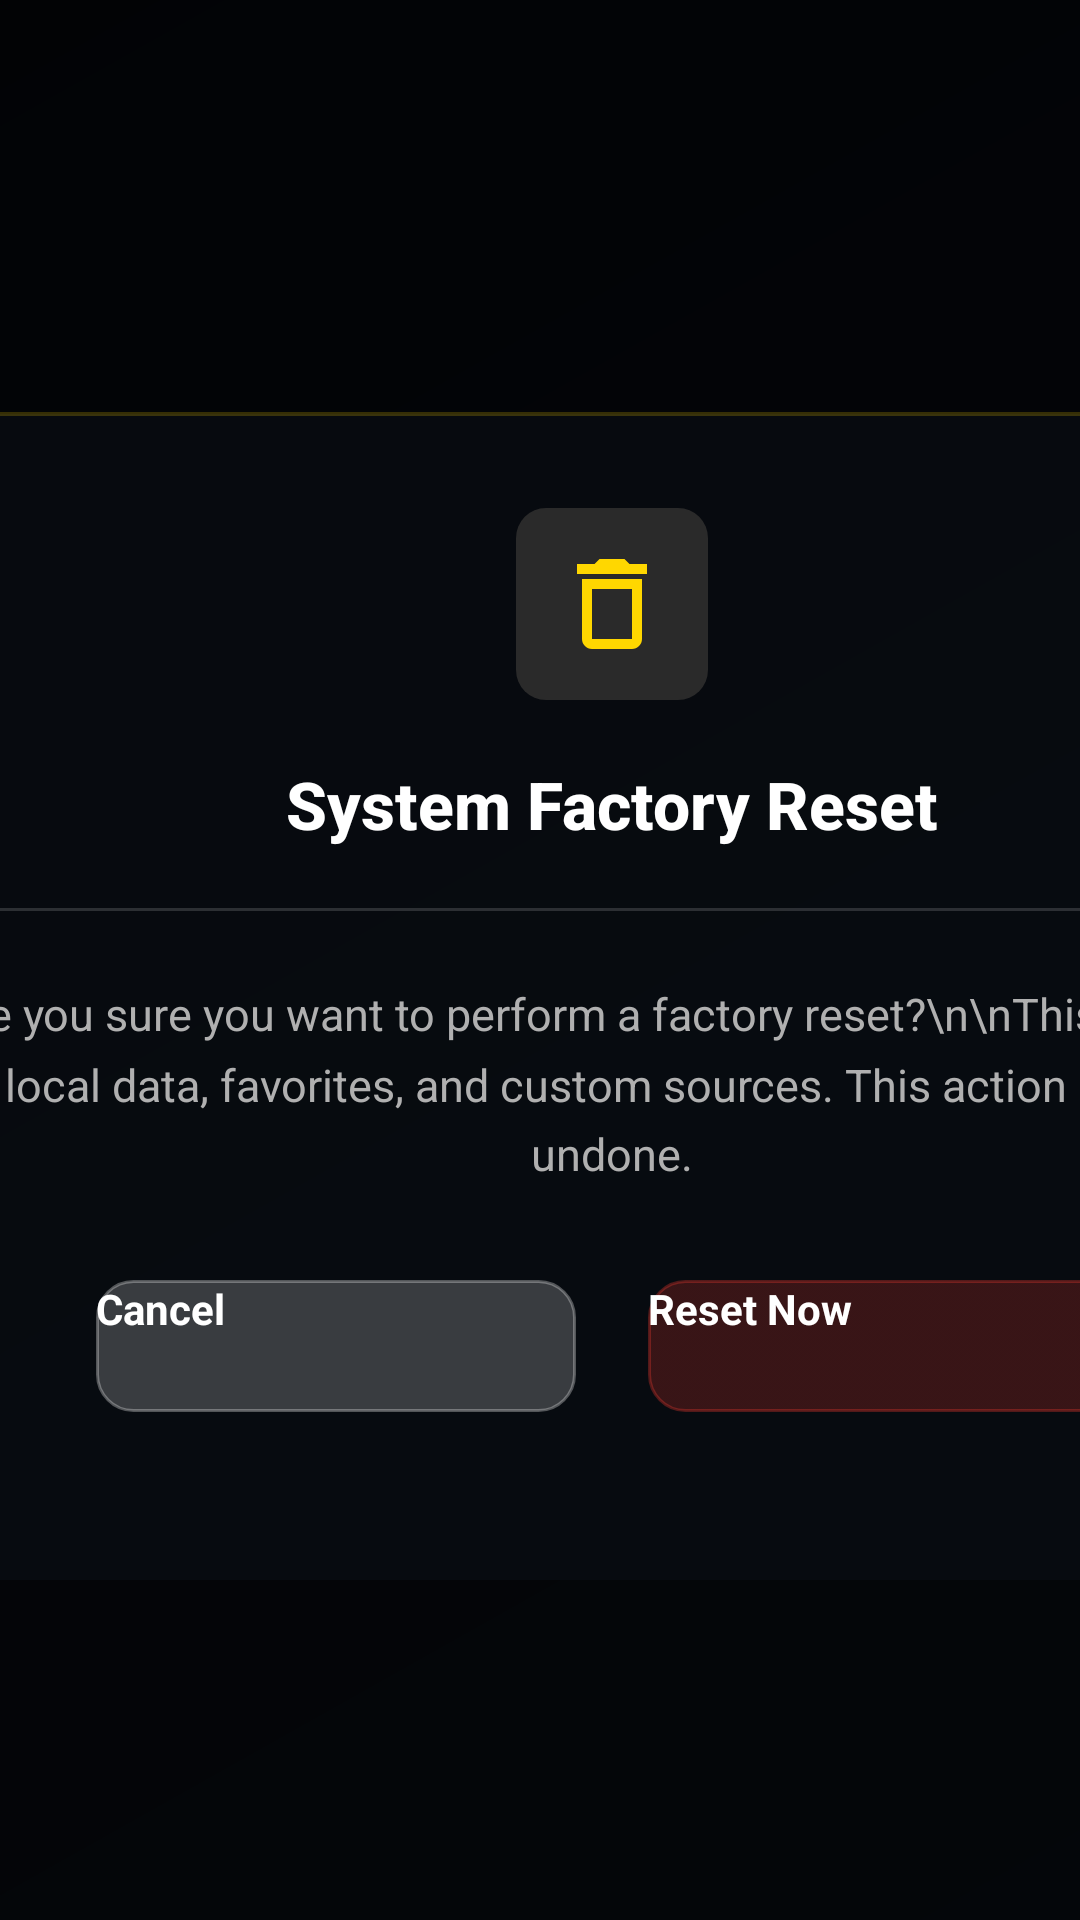

Where to tap for icons on this 1080px×1920px app screen, as point (x, y):
trash: point (612, 604)
